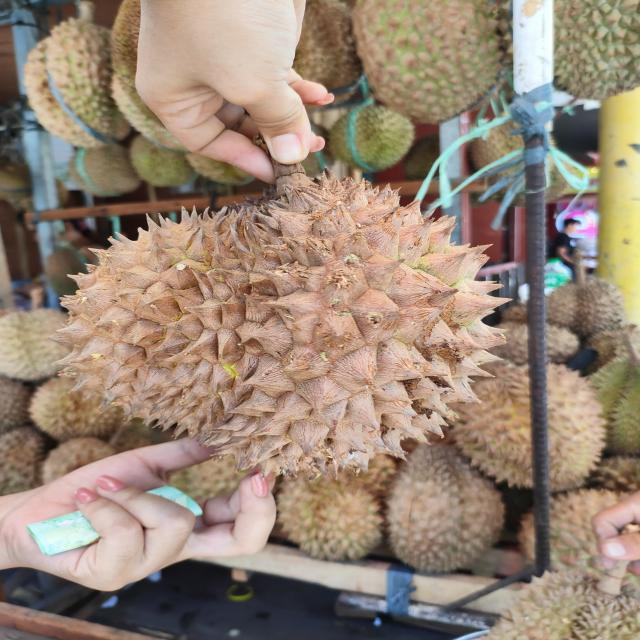mature: (47, 169, 513, 476), (444, 359, 609, 495)
